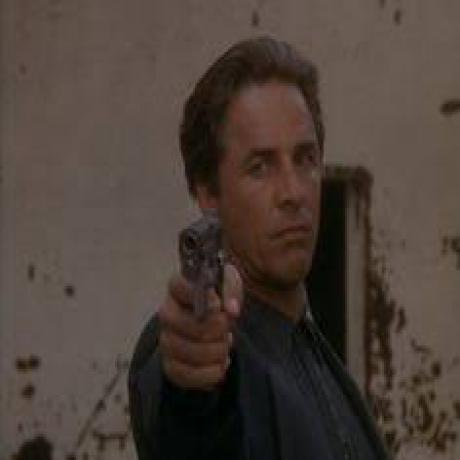Guns: (176, 201, 232, 342)
